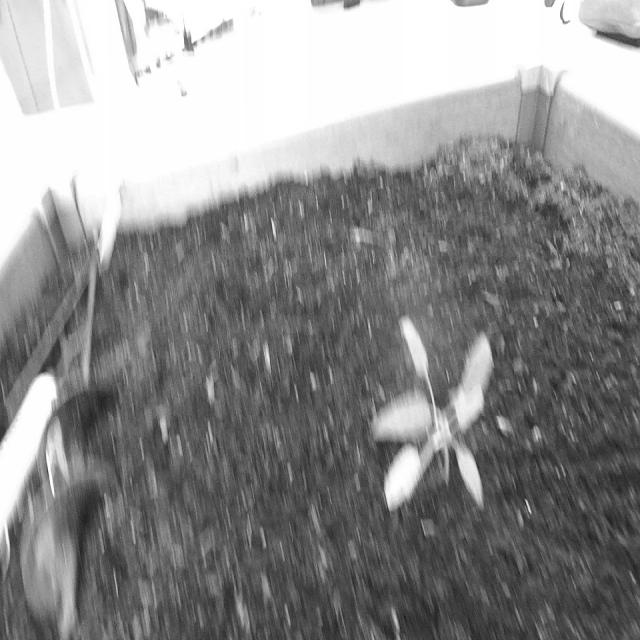Healthy: (358, 297, 501, 537)
